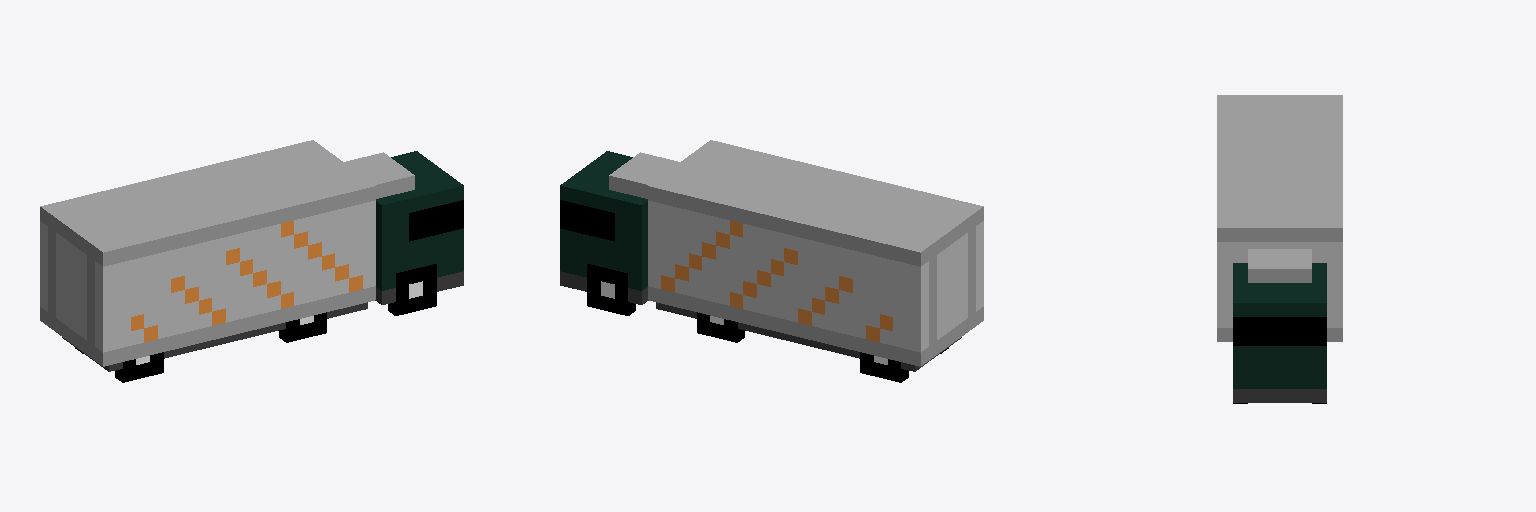
3 views of the same model, side by side, from view 1: azimuth 30°, elevation 25°; view 2: azimuth 150°, elevation 25°; view 3: azimuth 270°, elevation 25° (orthographic).
Parts seen in each view (by area): view 1: object 1; view 2: object 1; view 3: object 1.
Part boxes in pixels (bbox=[...]): object 1: bbox=[40, 140, 463, 382]; object 1: bbox=[560, 140, 983, 382]; object 1: bbox=[1217, 95, 1342, 403].
Size of the model in its own units: 2.7 by 1 by 0.8.
1 materials, 1 textured.